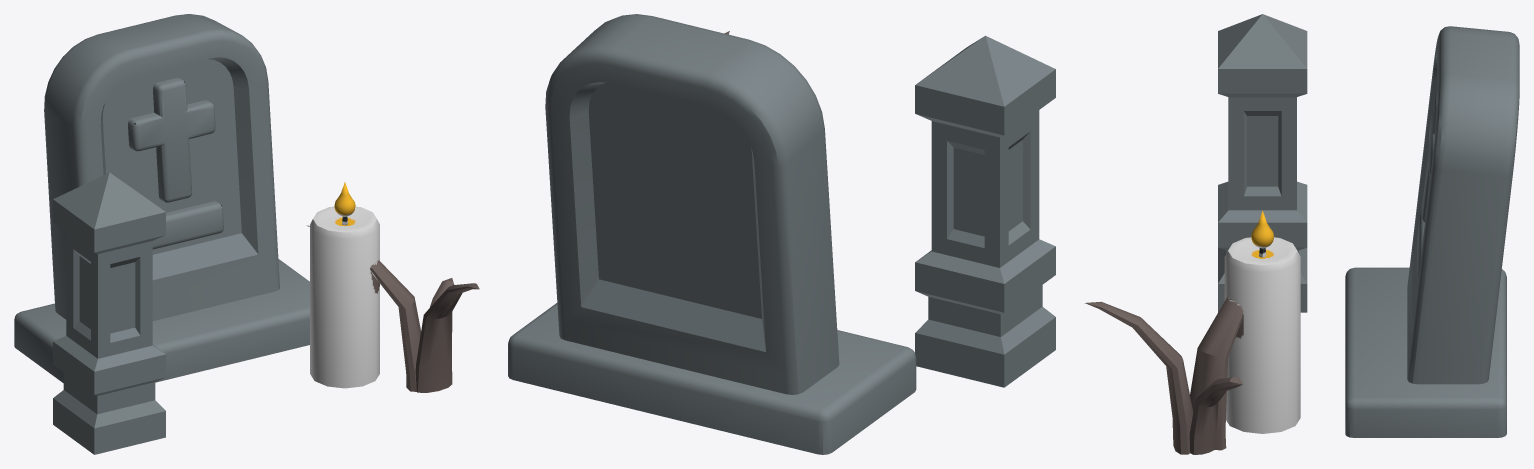
Rendered from graveyard-corner.glb.
3 renders of one model, left to right at view 1: azimuth 30°, elevation 25°; view 2: azimuth 150°, elevation 25°; view 3: azimuth 270°, elevation 25°, orthographic. The views are drawn at different scales.
Visible parts, largest first — view 1: gravestone; view 2: gravestone; view 3: gravestone.
Boxes of the visible parts, <box> form: gravestone: <box>14,14,479,454</box>; gravestone: <box>508,14,1055,454</box>; gravestone: <box>1085,14,1519,454</box>.
Bounding box in the file's own units: 1.41 × 1.07 × 1.33.
1 material, 1 textured.
